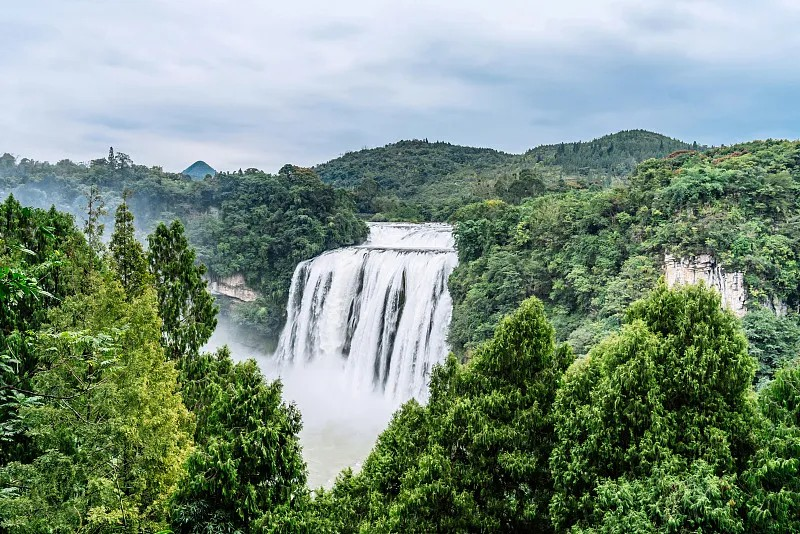Huangguoshu: (280, 222, 461, 410)
